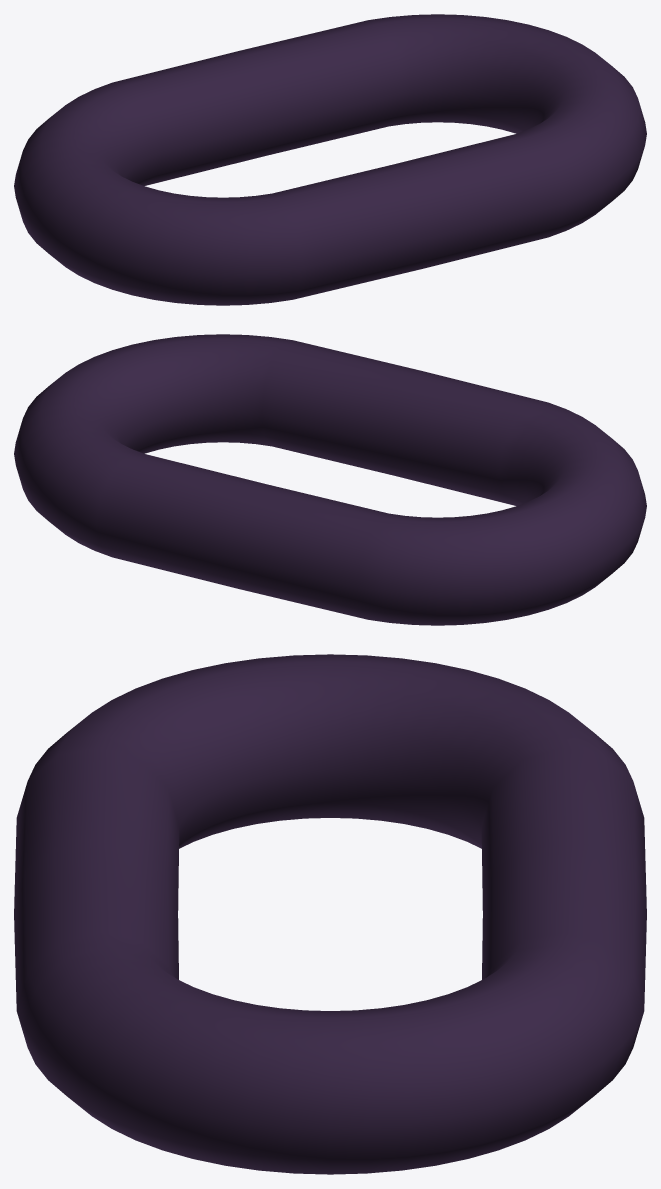
File: Chain.fbx
3 views of the same model, one above another, from view 1: azimuth 30°, elevation 25°; view 2: azimuth 150°, elevation 25°; view 3: azimuth 270°, elevation 25° (orthographic). The views are drawn at different scales.
Parts seen in each view (by area): view 1: Torus; view 2: Torus; view 3: Torus.
Part boxes in pixels (bbox=[...]): Torus: bbox=[14, 14, 646, 305]; Torus: bbox=[14, 334, 646, 625]; Torus: bbox=[14, 654, 646, 1174].
Size of the model in its own units: 430 by 70 by 270.
